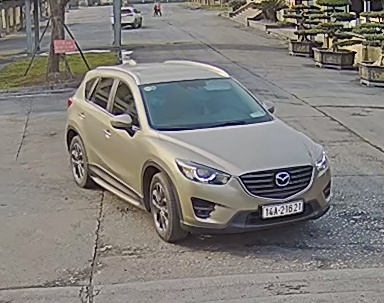vehicle plate: (257, 198, 305, 219)
